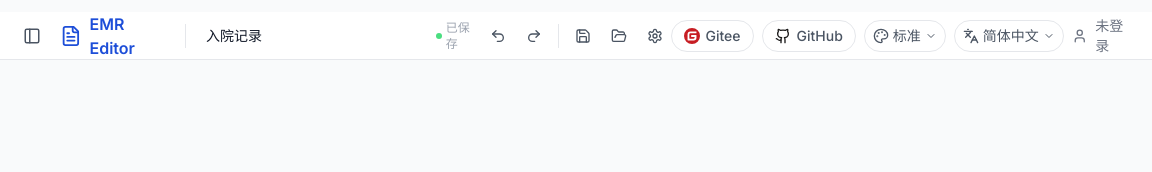
HeaderBar 文档标题输入 (P2-C, 契约 §7.7/§7.8) › Esc 撤销草稿回 canonical, 不提交
Replace the text in the field named "文档标题" with "随便改": coordinates (311, 36) [198,22,424,50]
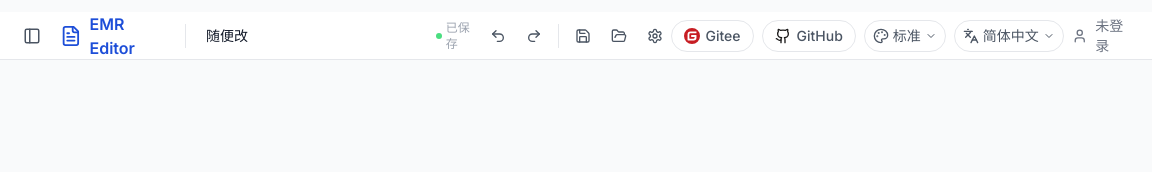
Press Escape in the field named "文档标题", box [198,22,424,50]
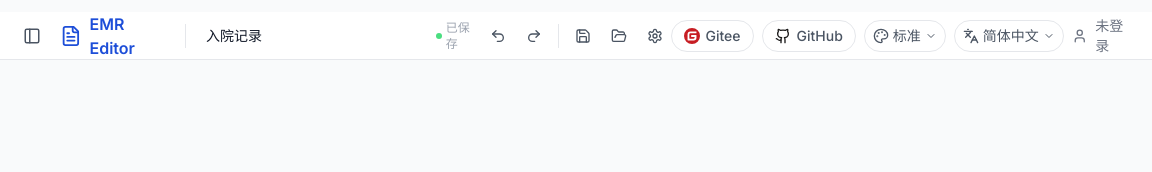
Expected: the field named "文档标题" holds "入院记录", [198,22,424,50]
